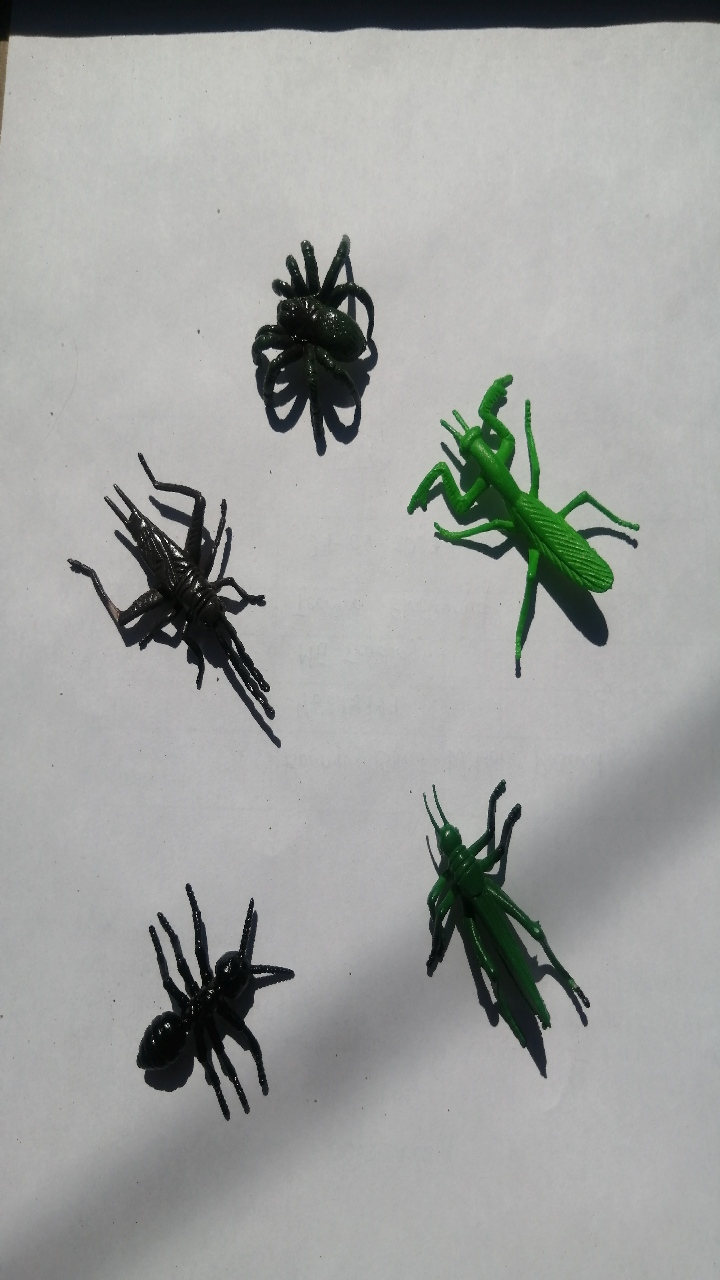intruso: (377, 348, 658, 683), (38, 417, 297, 752), (368, 740, 601, 1099), (95, 835, 326, 1140), (241, 195, 384, 462)
